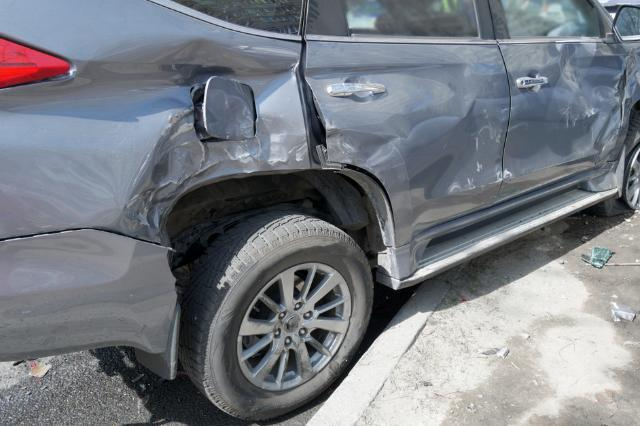Bumper: (0, 162, 211, 411)
Door: (303, 38, 528, 232)
Fender: (109, 4, 306, 232)
